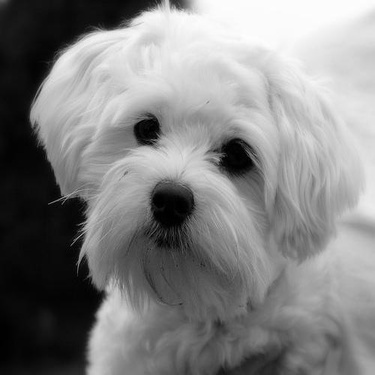dog: (21, 1, 371, 372)
